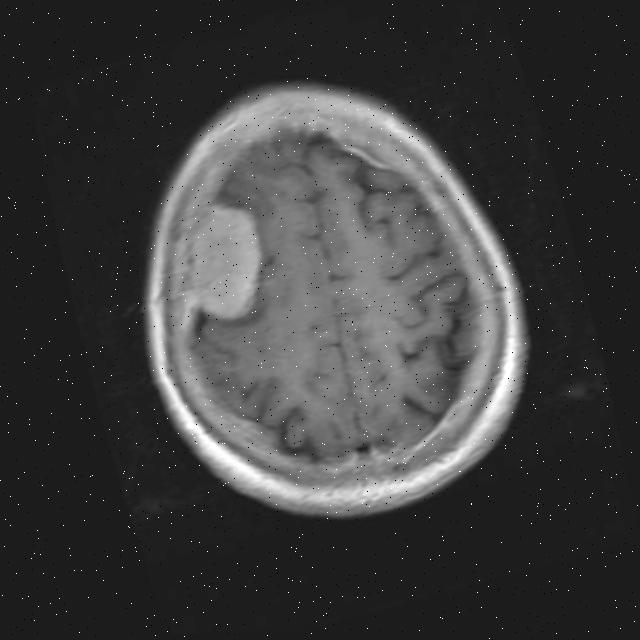Meningioma: (144, 193, 281, 339)
